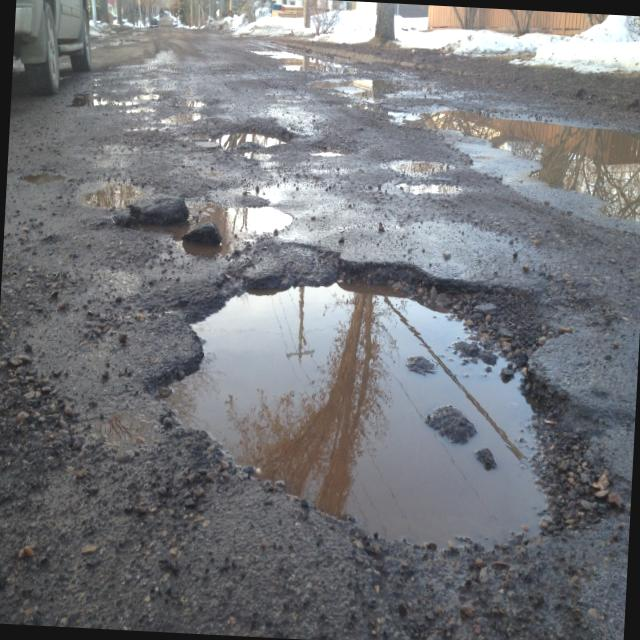bad-road: (133, 231, 640, 557), (379, 102, 640, 233), (182, 110, 310, 166), (187, 198, 296, 237), (77, 175, 150, 212)
